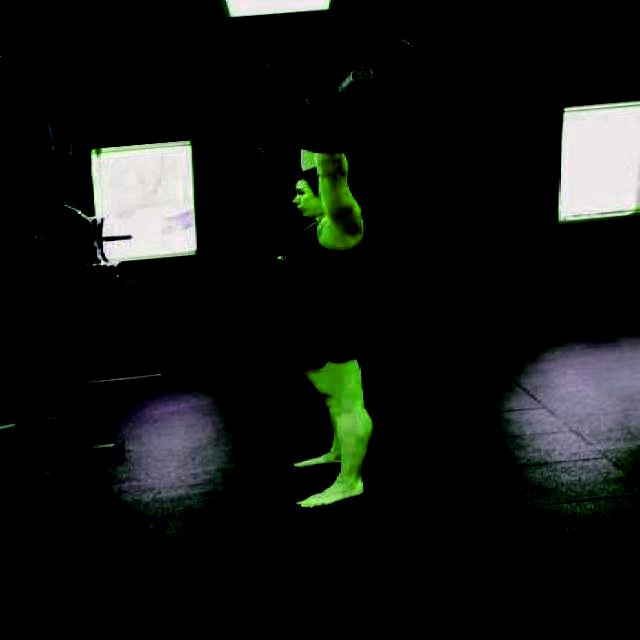barbell: (250, 32, 437, 172)
